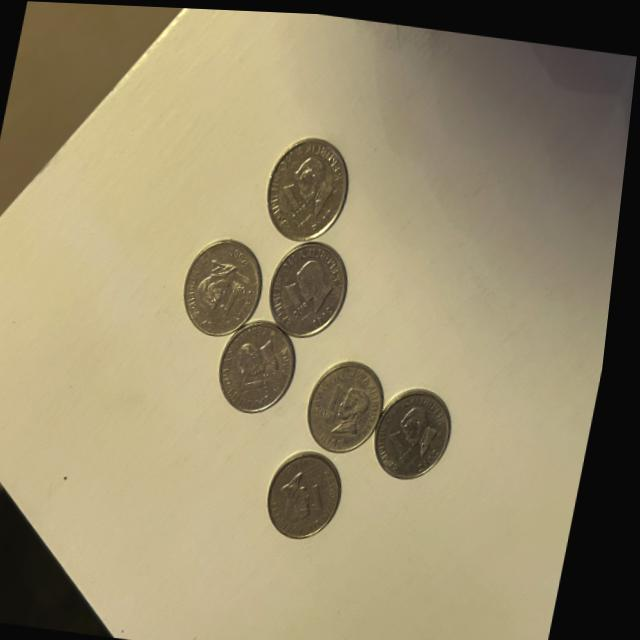1_Old_Front: (325, 374, 364, 428), (280, 173, 321, 223), (281, 273, 324, 317), (390, 421, 432, 463), (310, 467, 348, 511), (225, 273, 259, 320), (248, 362, 289, 395)
